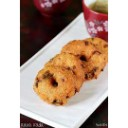vada: (62, 40, 107, 79), (33, 66, 76, 104), (46, 53, 83, 92)
